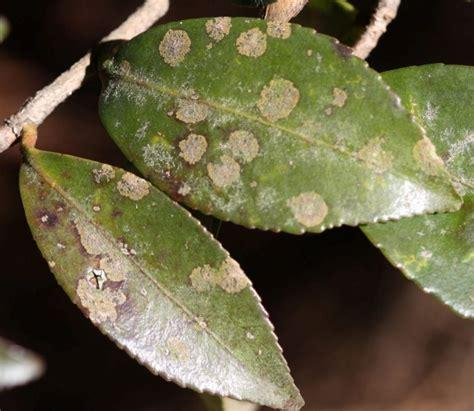black-spot: (151, 43, 319, 189)
